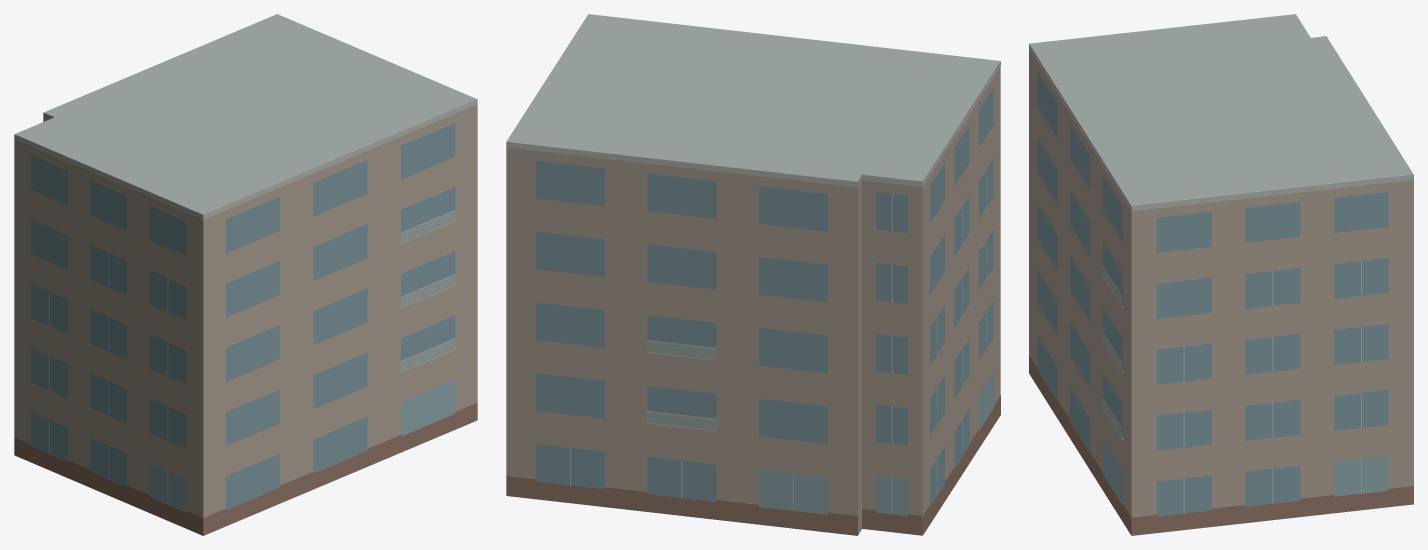
File: survey-upis-32717107.glb
3 views of the same model, side by side, from view 1: azimuth 30°, elevation 25°; view 2: azimuth 150°, elevation 25°; view 3: azimuth 270°, elevation 25° (orthographic). The views are drawn at different scales.
Visible parts, largest first — view 1: survey-upis-32717107.tmp; view 2: survey-upis-32717107.tmp; view 3: survey-upis-32717107.tmp.
Part boxes in pixels (x1=…): survey-upis-32717107.tmp: x1=14, y1=14, x2=477, y2=535; survey-upis-32717107.tmp: x1=506, y1=14, x2=1000, y2=535; survey-upis-32717107.tmp: x1=1029, y1=14, x2=1413, y2=535.
Size of the model in its own units: 19.06 by 15.25 by 16.13.
